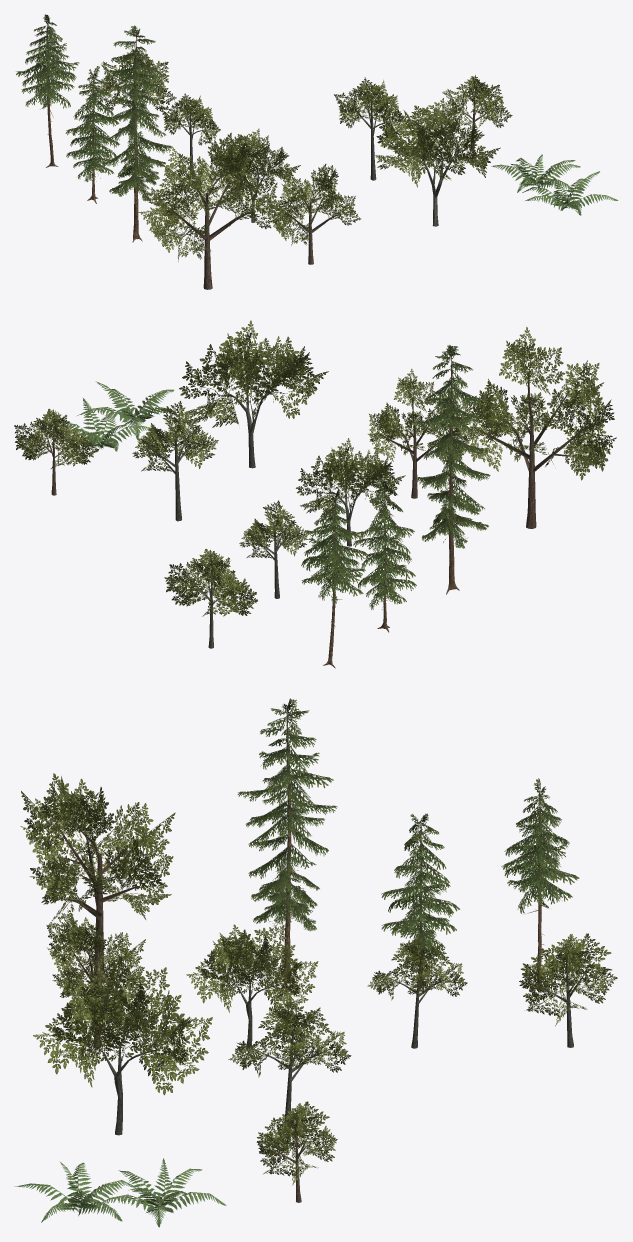
The model's file is RoadTree.fbx.
The picture shows the model from 3 angles, top to bottom: view 1: azimuth 30°, elevation 25°; view 2: azimuth 150°, elevation 25°; view 3: azimuth 270°, elevation 25°; orthographic projection. The views are drawn at different scales.
Visible parts, largest first — view 1: RoadTree_4, RoadTree_3, RoadTree_7, RoadTree_12, RoadTree_6, RoadTree_5, RoadTree_8, RoadTree_2, RoadTree_11, RoadTree_13, RoadTree_9, RoadTree_10; view 2: RoadTree_4, RoadTree_3, RoadTree_7, RoadTree_11, RoadTree_6, RoadTree_5, RoadTree_12, RoadTree_9, RoadTree_2, RoadTree_13, RoadTree_8, RoadTree_10; view 3: RoadTree_4, RoadTree_3, RoadTree_7, RoadTree_11, RoadTree_5, RoadTree_9, RoadTree_6, RoadTree_2, RoadTree_12, RoadTree_8, RoadTree_13, RoadTree_10.
Boxes of the visible parts, bbox=[...] form: RoadTree_4: bbox=[138, 132, 285, 289]; RoadTree_3: bbox=[375, 98, 500, 226]; RoadTree_7: bbox=[102, 25, 171, 242]; RoadTree_12: bbox=[266, 164, 360, 264]; RoadTree_6: bbox=[16, 14, 79, 167]; RoadTree_5: bbox=[65, 66, 119, 203]; RoadTree_8: bbox=[491, 154, 618, 215]; RoadTree_2: bbox=[334, 77, 407, 180]; RoadTree_11: bbox=[209, 128, 300, 222]; RoadTree_13: bbox=[438, 75, 512, 150]; RoadTree_9: bbox=[90, 49, 176, 134]; RoadTree_10: bbox=[159, 93, 220, 177]; RoadTree_4: bbox=[458, 327, 616, 528]; RoadTree_3: bbox=[179, 320, 328, 468]; RoadTree_7: bbox=[412, 344, 490, 594]; RoadTree_11: bbox=[296, 438, 405, 546]; RoadTree_6: bbox=[301, 488, 368, 668]; RoadTree_5: bbox=[353, 476, 416, 632]; RoadTree_12: bbox=[368, 368, 469, 498]; RoadTree_9: bbox=[164, 549, 257, 648]; RoadTree_2: bbox=[132, 401, 218, 521]; RoadTree_13: bbox=[14, 408, 98, 495]; RoadTree_8: bbox=[58, 381, 177, 459]; RoadTree_10: bbox=[239, 500, 309, 598]; RoadTree_4: bbox=[20, 773, 175, 981]; RoadTree_3: bbox=[33, 967, 212, 1135]; RoadTree_7: bbox=[237, 698, 337, 985]; RoadTree_11: bbox=[186, 924, 318, 1046]; RoadTree_5: bbox=[381, 813, 460, 990]; RoadTree_9: bbox=[519, 933, 617, 1047]; RoadTree_6: bbox=[501, 778, 579, 987]; RoadTree_2: bbox=[228, 999, 351, 1135]; RoadTree_12: bbox=[46, 914, 145, 1048]; RoadTree_8: bbox=[14, 1158, 226, 1227]; RoadTree_13: bbox=[256, 1101, 337, 1202]; RoadTree_10: bbox=[367, 936, 467, 1048].
Size of the model in its own units: 23.83 by 10.59 by 20.2.
3 materials, 3 textured.
